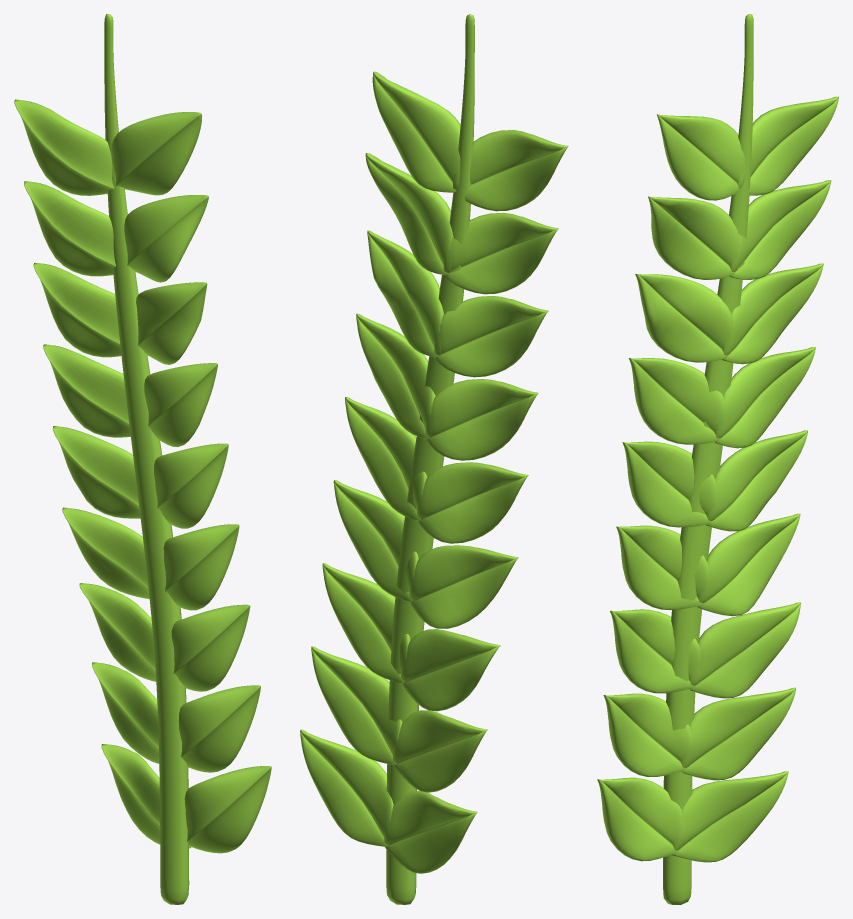
Rendered from Smallvine.fbx.
3 views of the same model, side by side, from view 1: azimuth 30°, elevation 25°; view 2: azimuth 210°, elevation 25°; view 3: azimuth 270°, elevation 25° (orthographic). The views are drawn at different scales.
Visible parts, largest first — view 1: NurbsPath.004; view 2: NurbsPath.004; view 3: NurbsPath.004.
Boxes of the visible parts, left/top/right/bottom form: NurbsPath.004: left=14, top=14, right=271, bottom=904; NurbsPath.004: left=300, top=14, right=568, bottom=904; NurbsPath.004: left=597, top=14, right=838, bottom=904.
Size of the model in its own units: 49.27 by 33.71 by 197.
